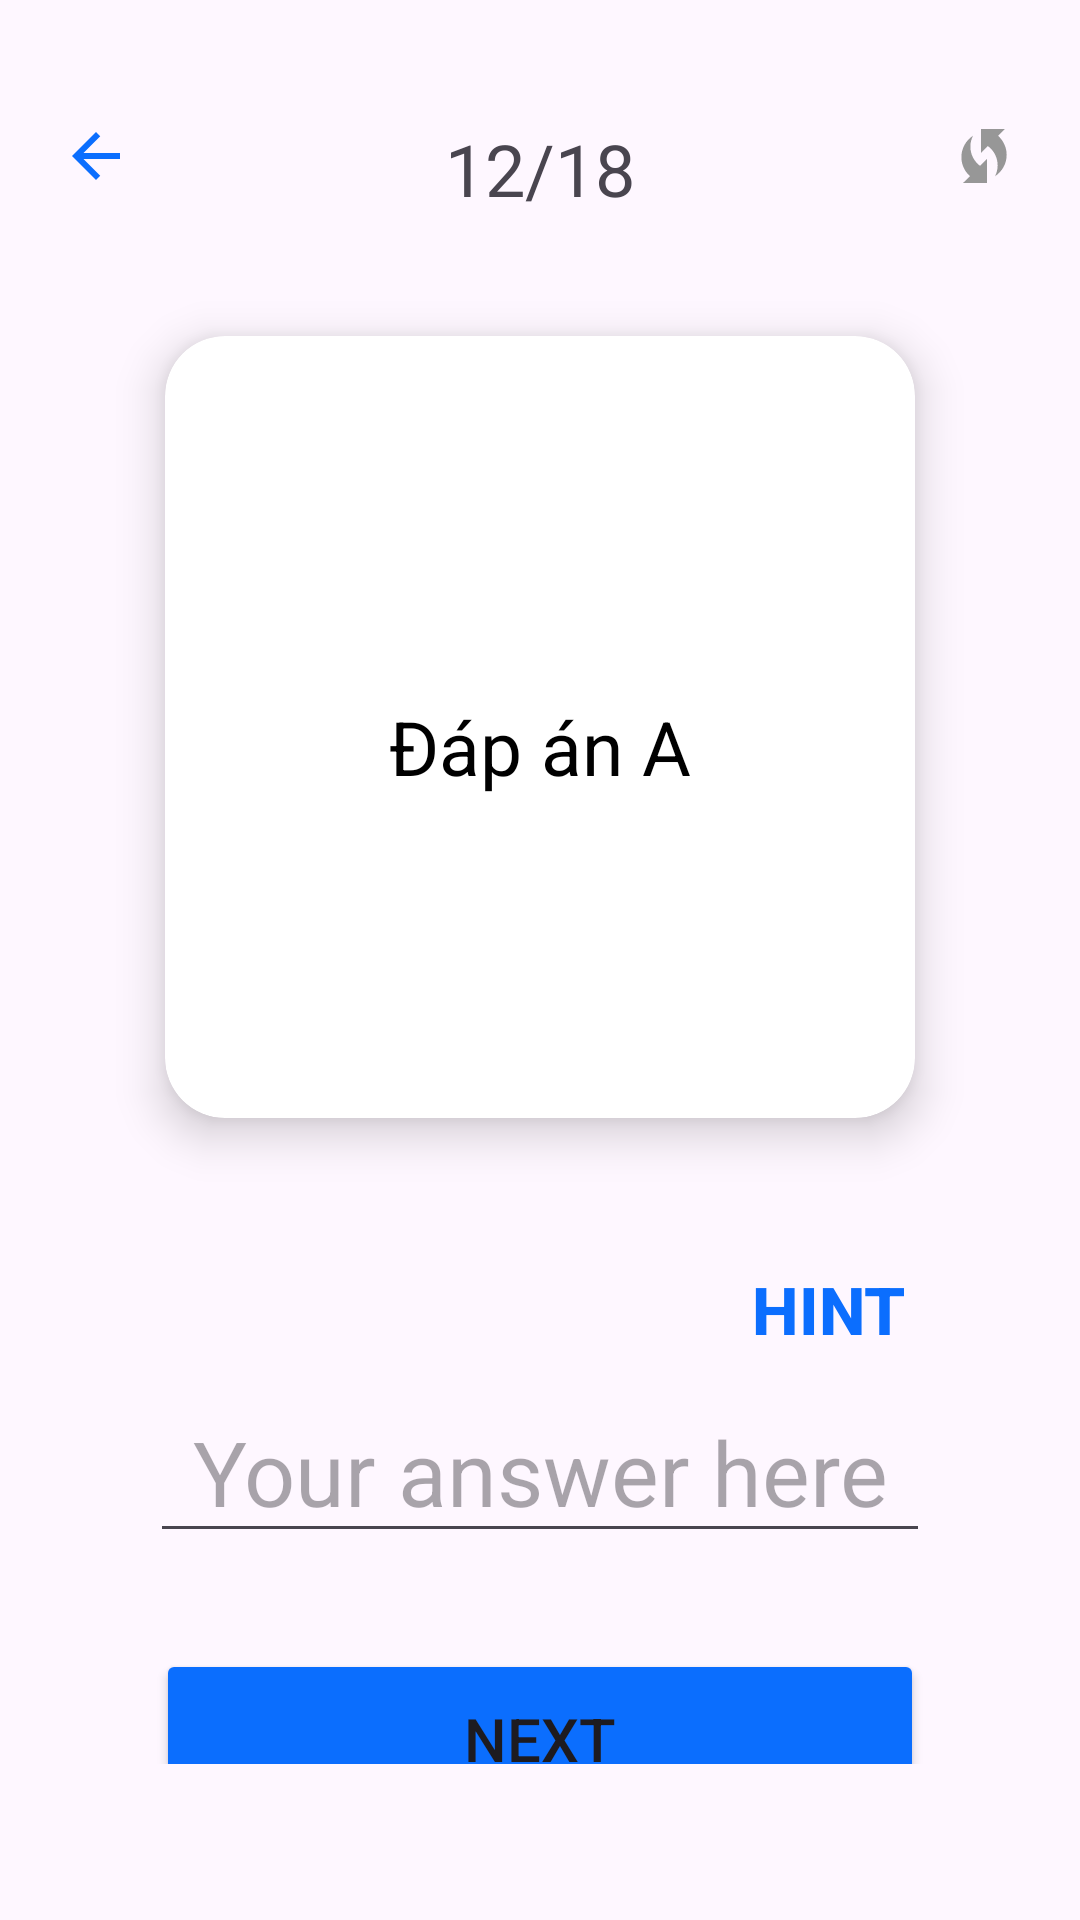

Icon click points for this 1080*1920 phone screenshot, format (x,y):
arrow back: (96,156)
wifi protected setup: (984,156)
